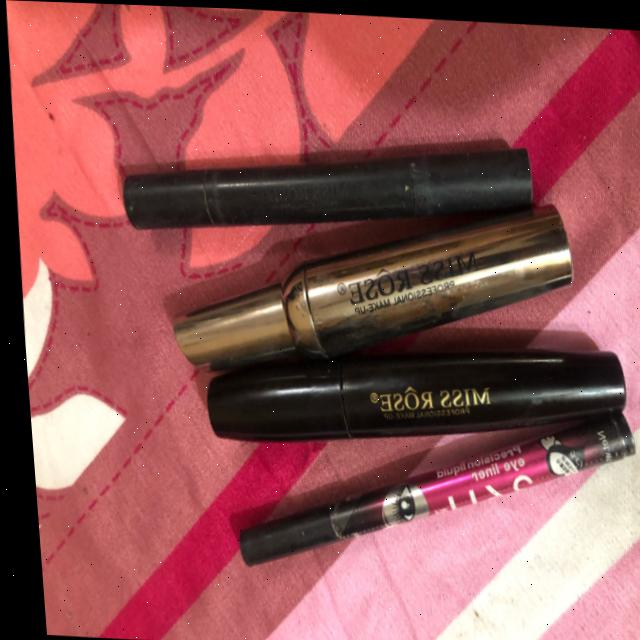eye liner: (207, 395, 631, 605)
mascara: (96, 85, 547, 265), (178, 308, 624, 476)
